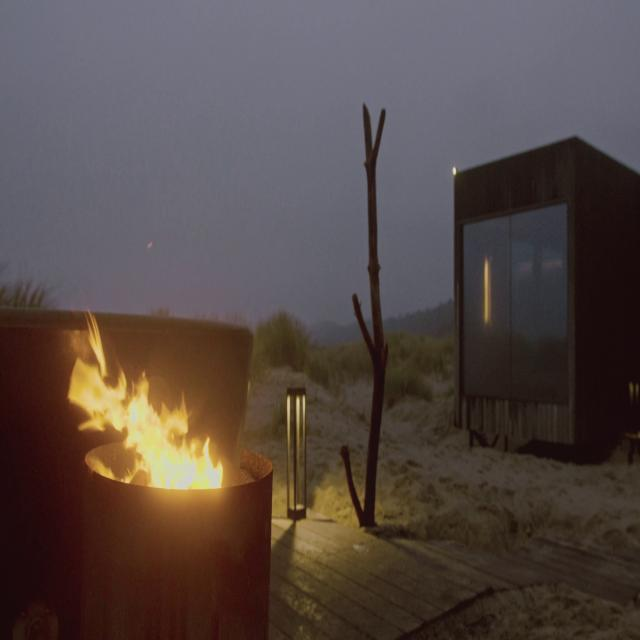Fire: (66, 319, 224, 498)
